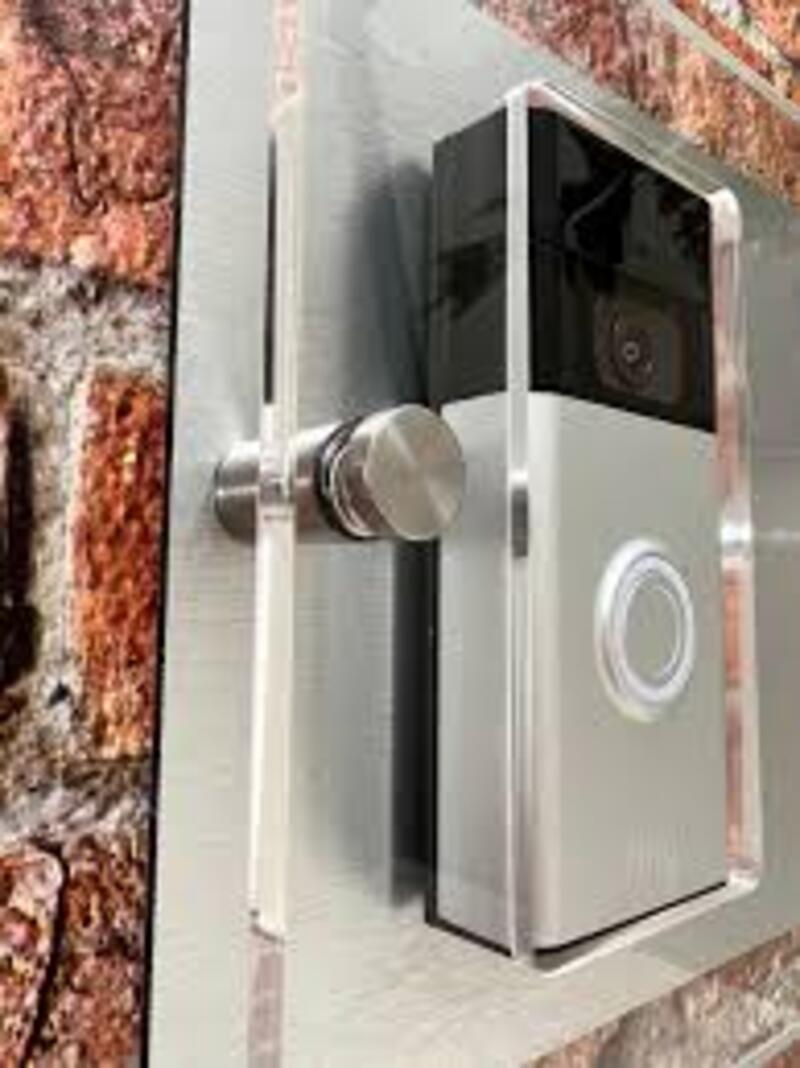doorbell: (415, 87, 763, 987)
